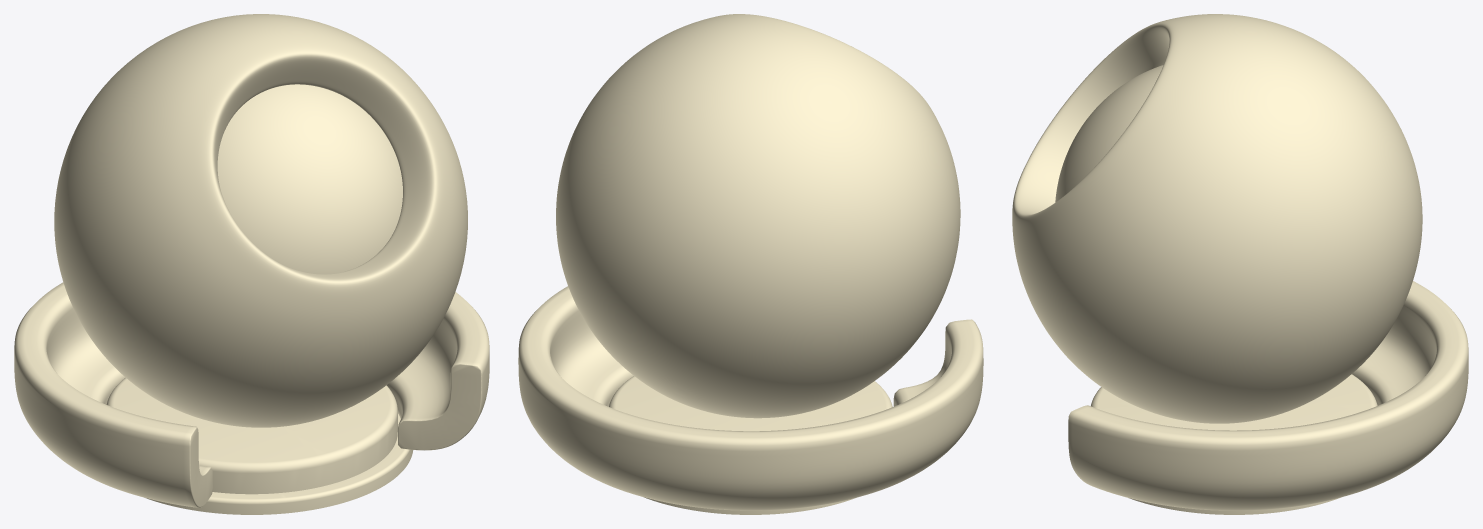
File: standard_surface_gold.mtlx.glb
3 views of the same model, side by side, from view 1: azimuth 30°, elevation 25°; view 2: azimuth 150°, elevation 25°; view 3: azimuth 270°, elevation 25° (orthographic). The views are drawn at different scales.
Visible parts, largest first — view 1: Preview_Mesh, Calibration_Mesh; view 2: Preview_Mesh, Calibration_Mesh; view 3: Preview_Mesh, Calibration_Mesh.
Part boxes in pixels (box(x1,y1,x2,y2)): Preview_Mesh: box(14, 14, 489, 507); Calibration_Mesh: box(106, 84, 413, 514); Preview_Mesh: box(518, 14, 983, 510); Calibration_Mesh: box(609, 376, 892, 514); Preview_Mesh: box(1012, 14, 1468, 510); Calibration_Mesh: box(1055, 65, 1377, 514).
Size of the model in its own units: 2.14 by 2.09 by 2.08.
